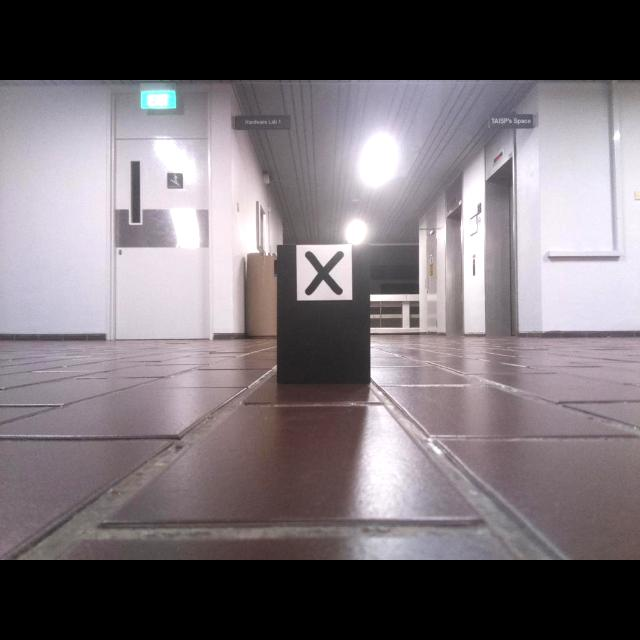X: (304, 250, 345, 296)
